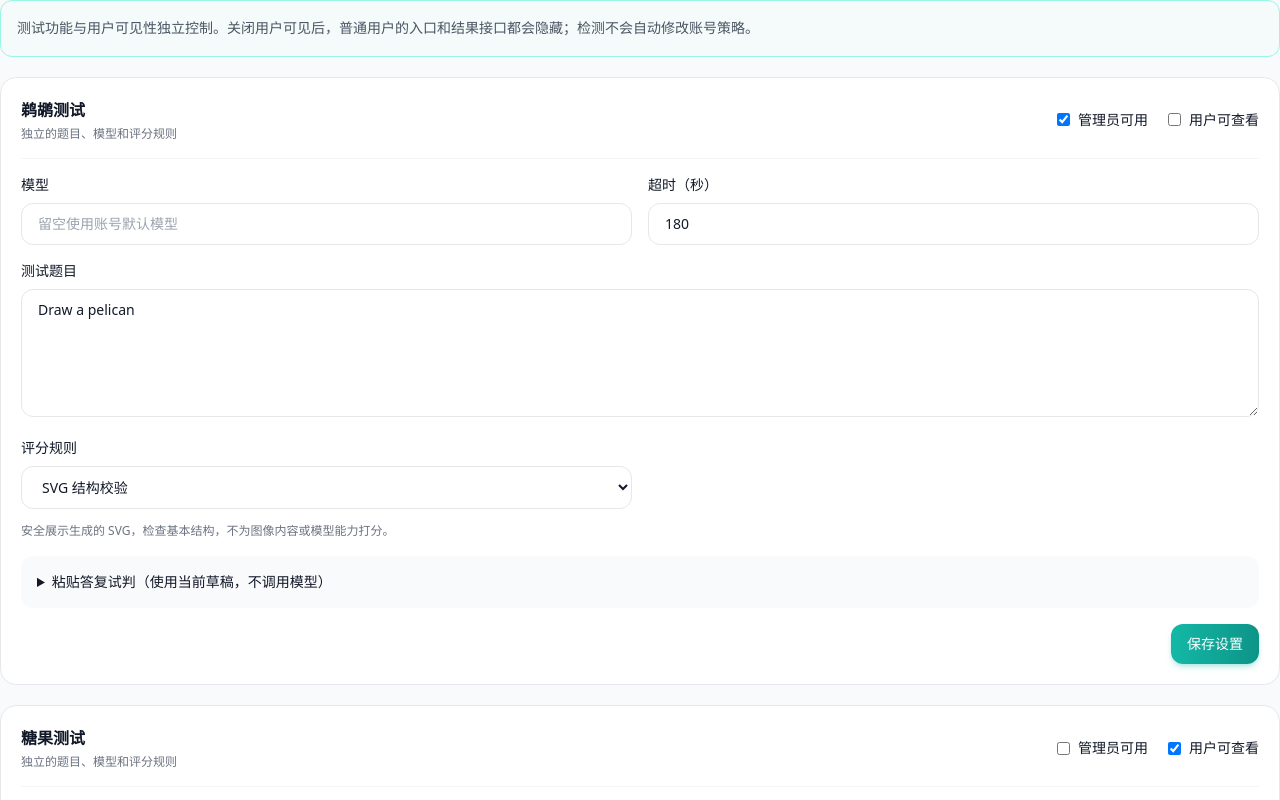
Test: independent settings and persisted status › locks the submitted form and acknowledges only its submission snapshot
Step 1. Submit the form that starts with "鹈鹕测试"
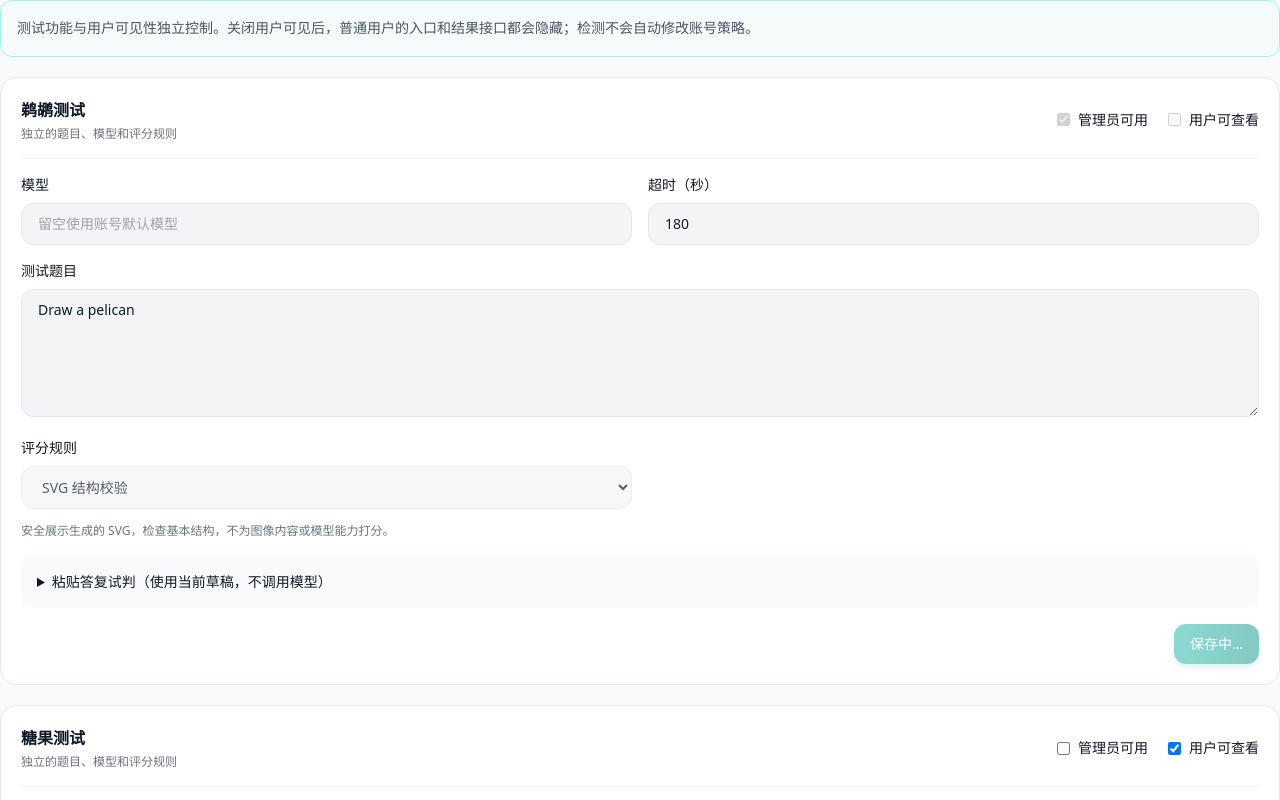
Step 2. Submit the form that starts with "鹈鹕测试"
Expected: the element that starts with "鹈鹕测试" is disabled
Note: Programmatic model changes cannot mutate the already submitted object.
Step 3. Replace the text in the text box labelled "测试题目" with "A later unsent prompt" → (640, 353), box x1=21 y1=289 x2=1259 y2=417
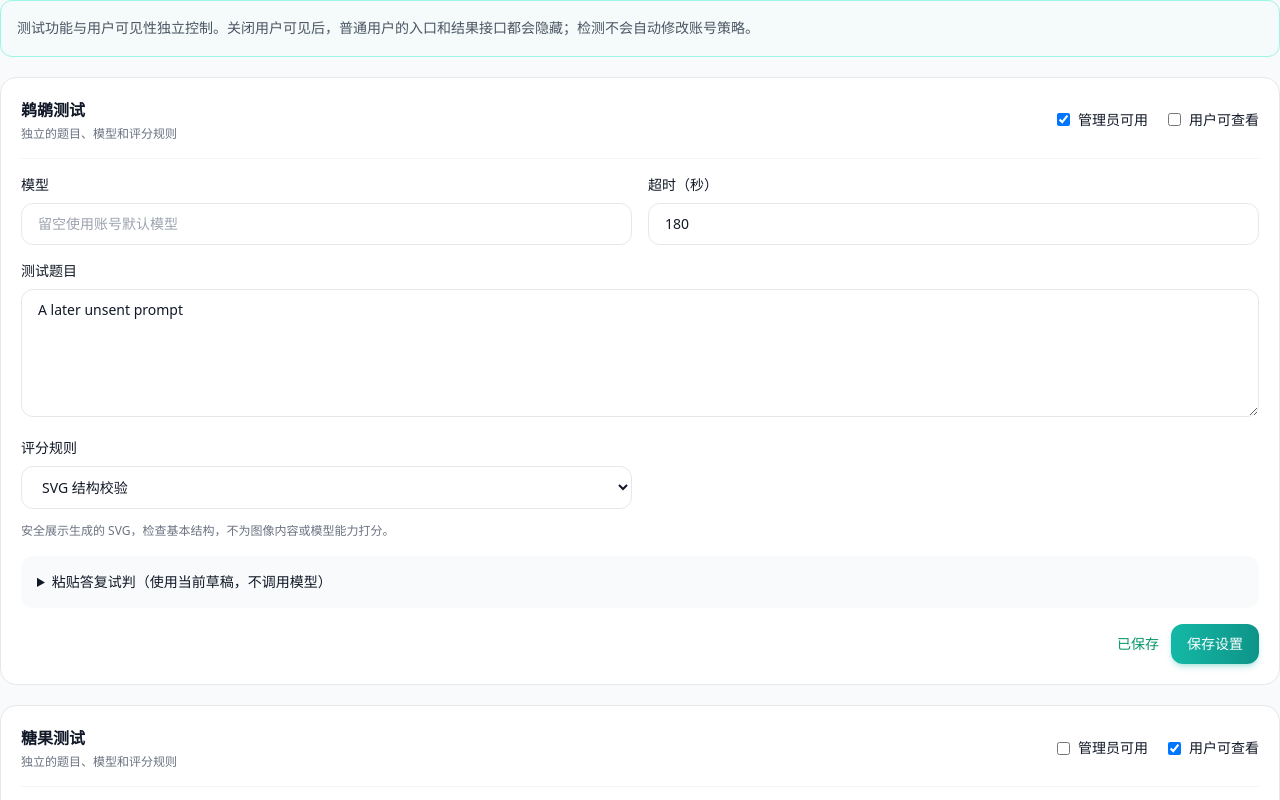
Expected: the element that starts with "鹈鹕测试" is enabled
Step 4. Replace the text in the text box labelled "测试题目" with "Another edit after saving" → (640, 353), box x1=21 y1=289 x2=1259 y2=417
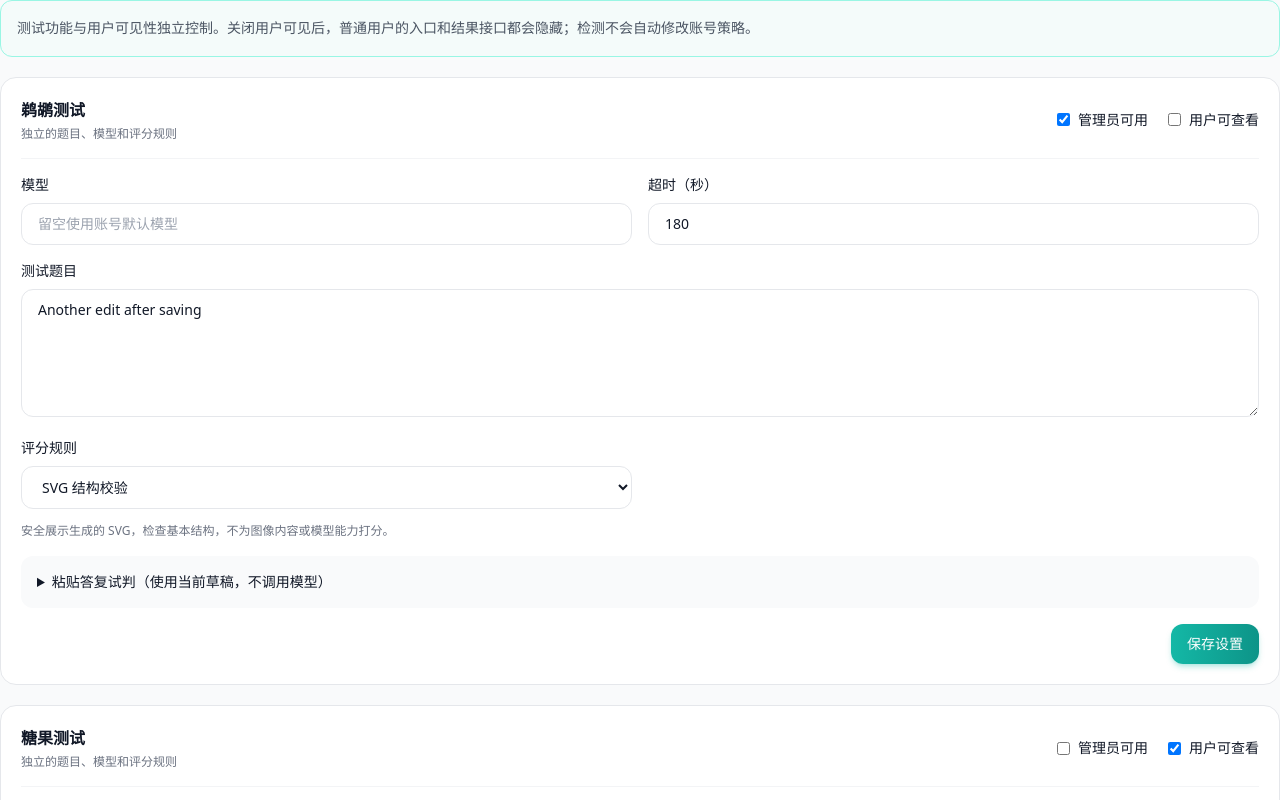
Expected: the text "已保存" is gone
